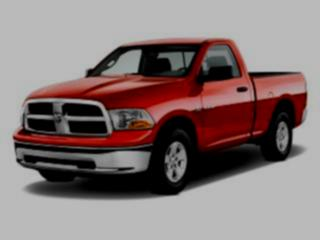ram: (52, 111, 65, 125)
